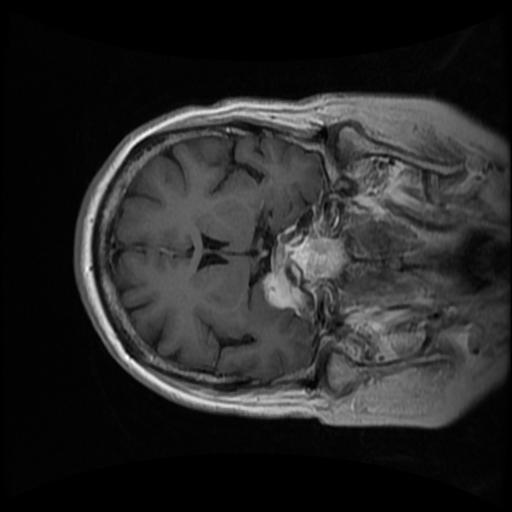meningioma: (260, 268, 301, 309)
